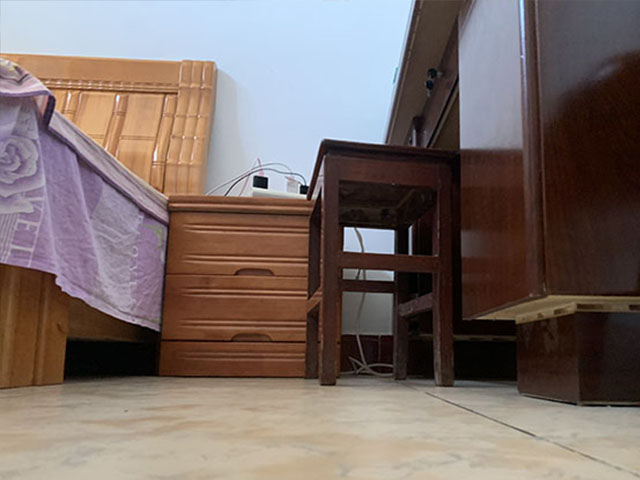bed: (1, 50, 222, 392)
cabinet: (450, 1, 639, 404), (154, 194, 312, 380)
stool: (306, 137, 459, 388)
wire: (210, 156, 311, 196), (349, 293, 396, 377)
